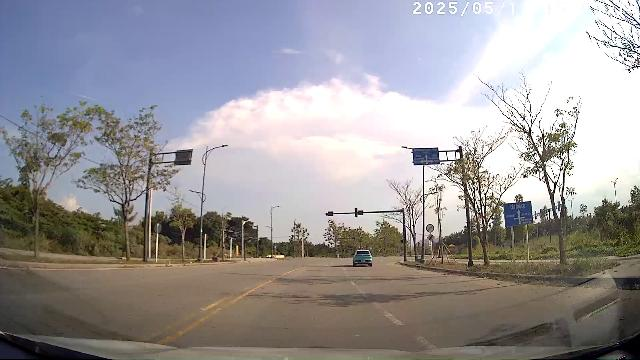135-het-tat-ca-cac-lenh-cam: (426, 223, 435, 233)
